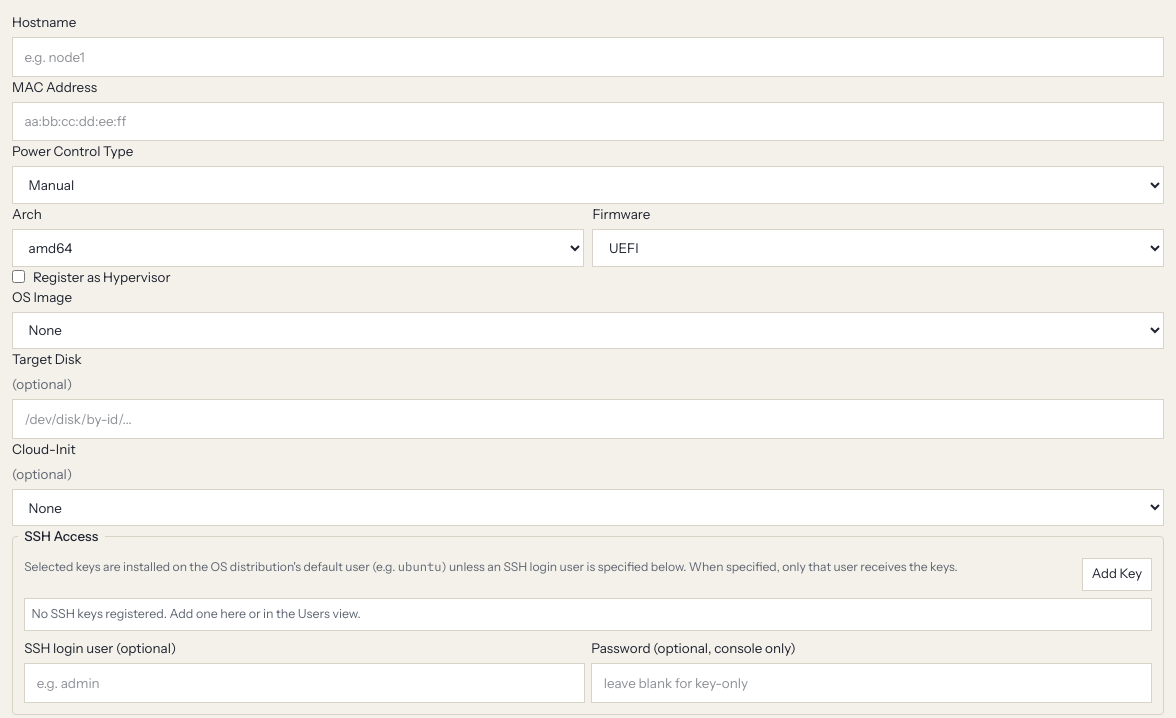
Windows Machine configuration › switches from Linux configuration to manual Windows activation and back
Expected: the text "Cloud-Init" is shown, [12, 441, 76, 457]
Select "windows (windows 11)" in the dropdown labelled "OS Image" at (588, 330), box [12, 312, 1164, 349]
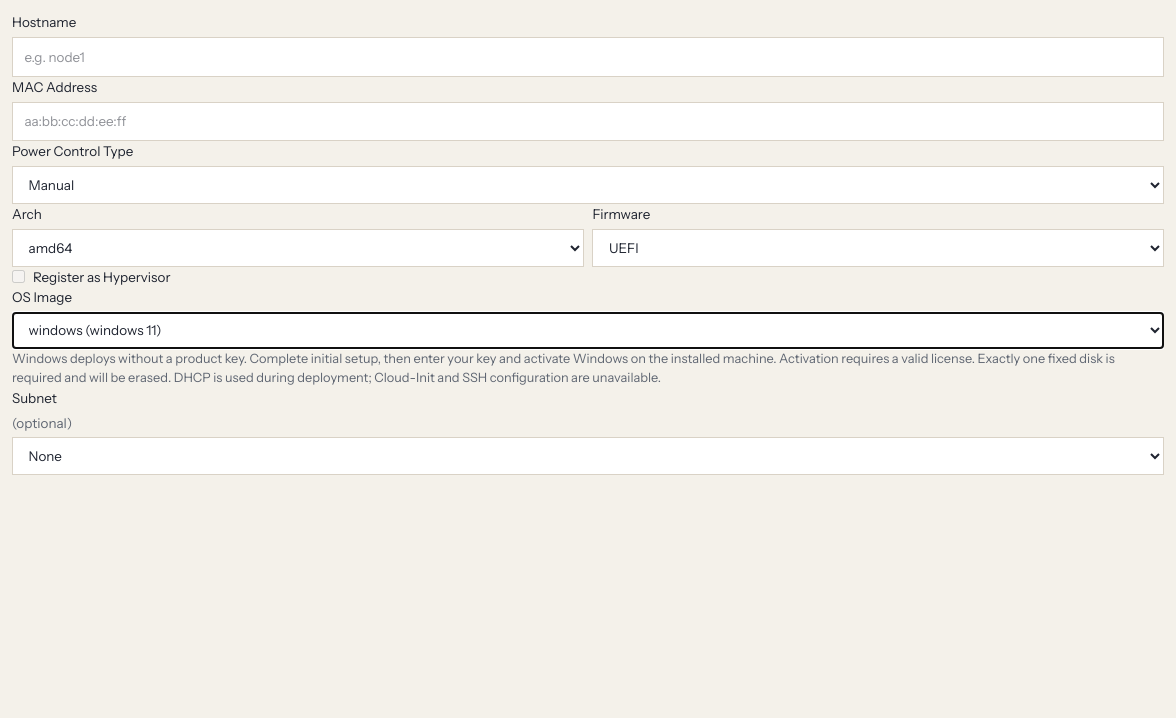
Expected: the text "Windows deploys without a product key" is shown, [12, 351, 1115, 385]
Expected: the checkbox labelled "Register as Hypervisor" is disabled, [12, 270, 25, 283]
Expected: the label labelled "Target Disk" is gone
Select "linux (debian 13 baremetal)" in the dropdown labelled "OS Image" at (588, 330), box [12, 312, 1164, 349]
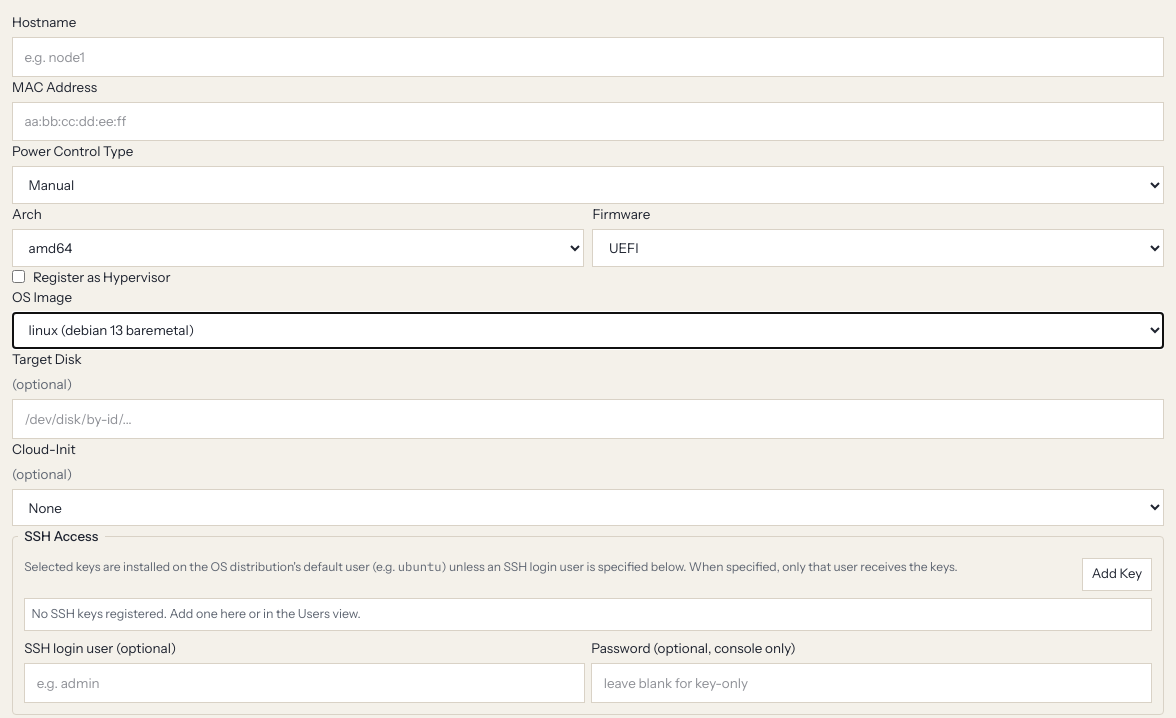
Expected: the dropdown labelled "Firmware" is enabled, [592, 229, 1164, 266]
Expected: the text "Cloud-Init" is shown, [12, 441, 76, 457]
